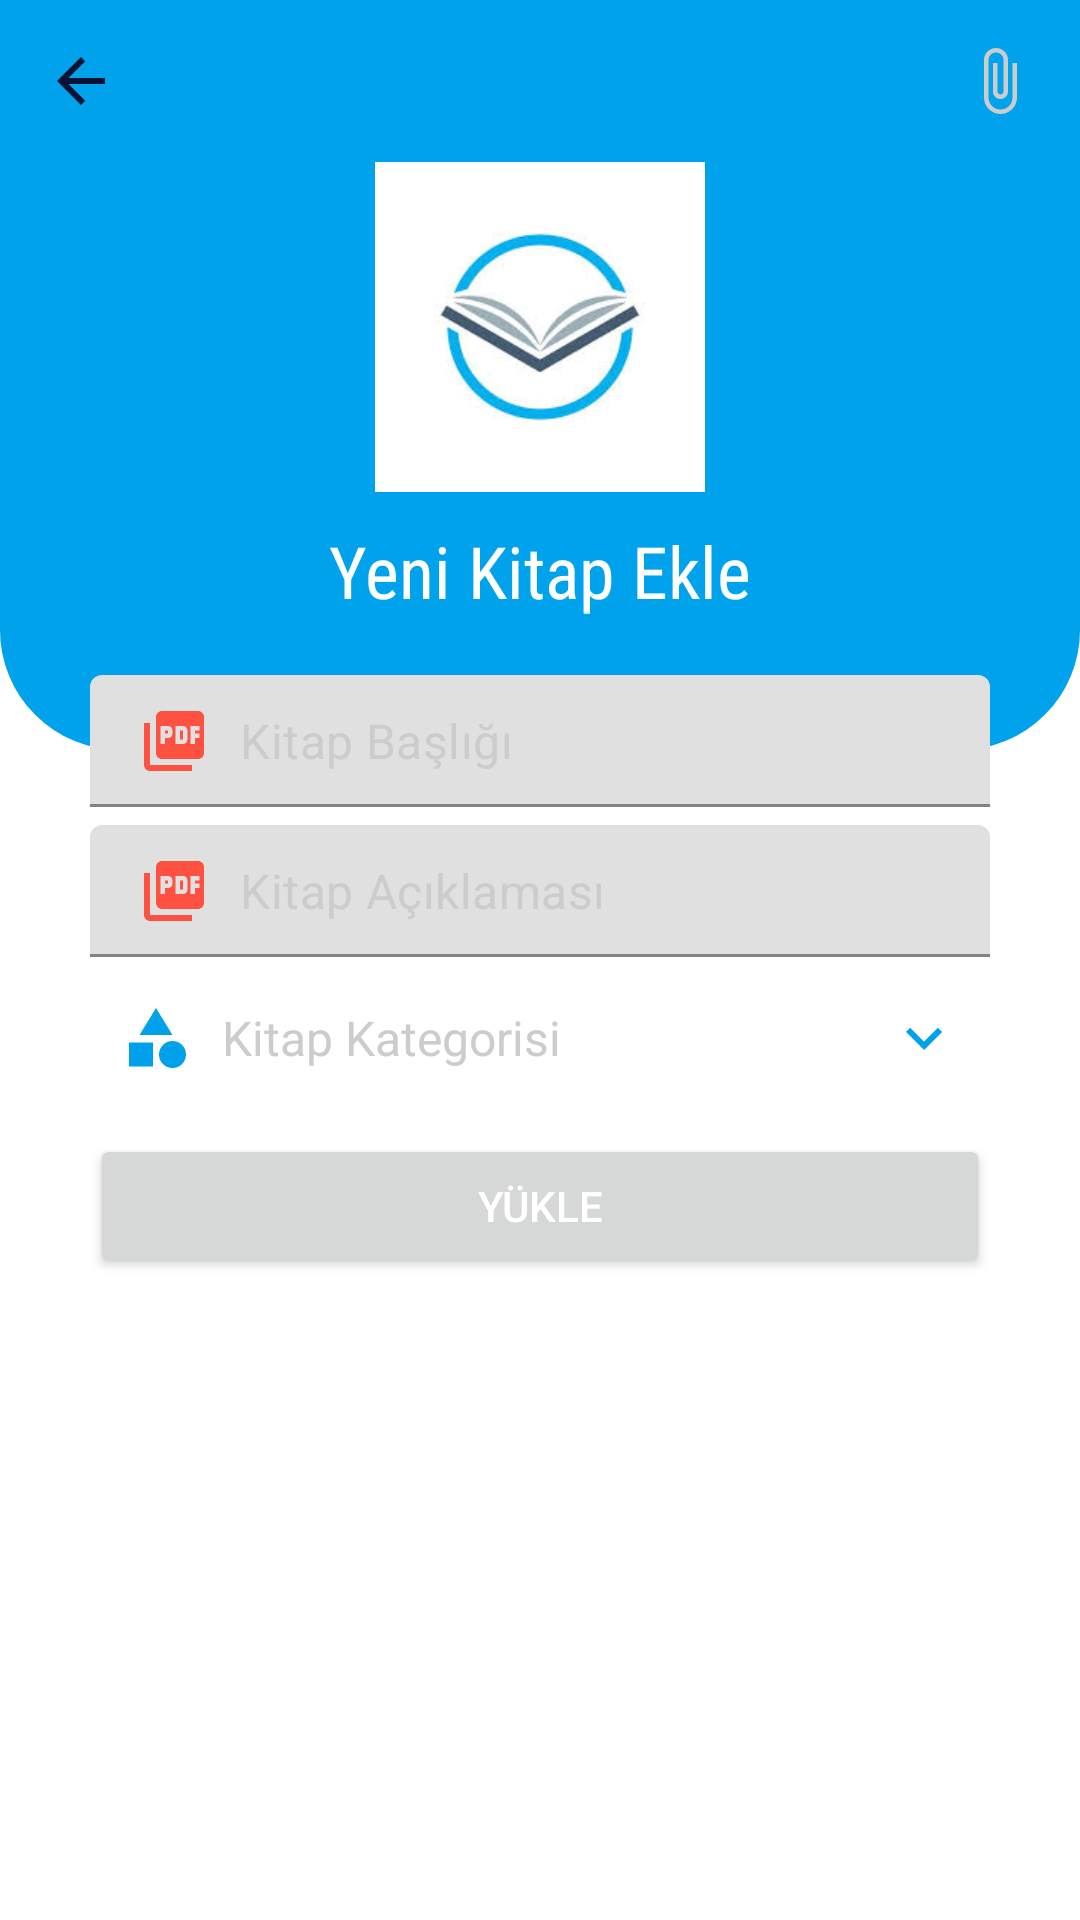

Icons on this 1080 x 1920 Android screen, each with its box as (x1,y1,x2,y2):
arrow back: (57,57,105,105)
attach file: (984,48,1017,114)
